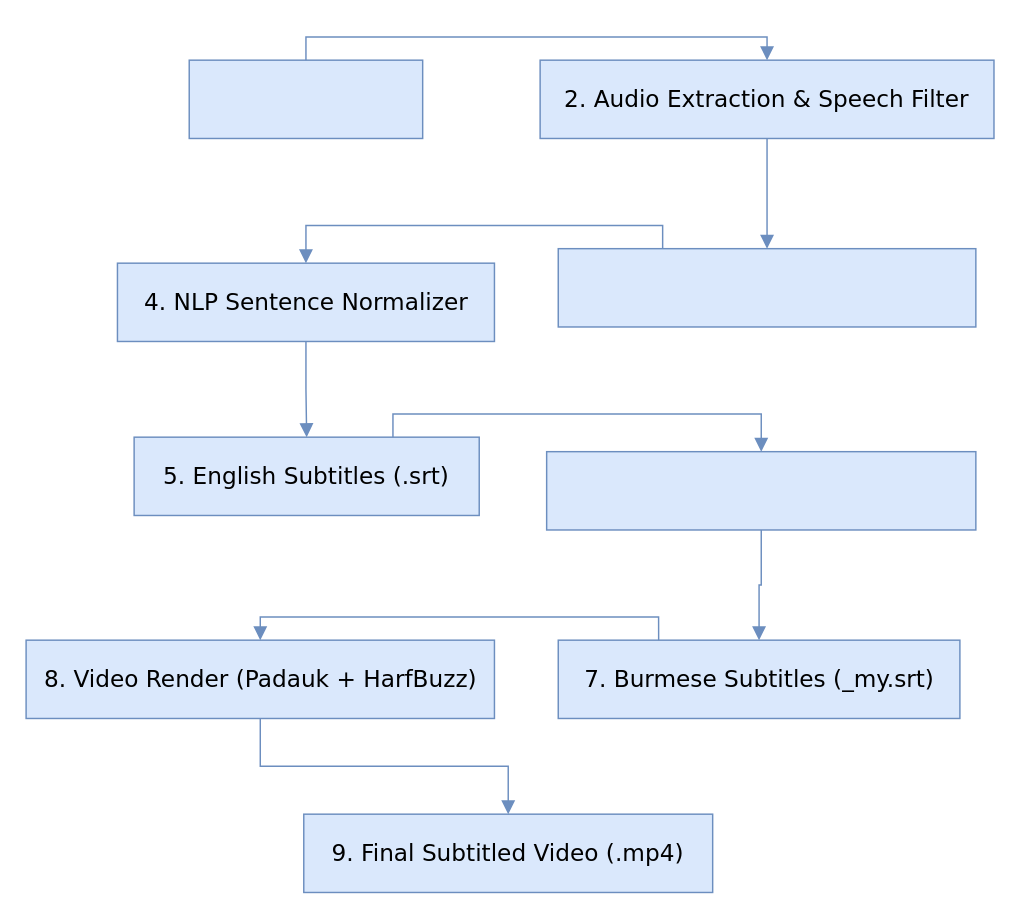
Image size: 1019x918. Some labels were removed from this diagram. Each missing label, with the box of its shape:
1. Input Video: (188, 59, 423, 138)
3. Local Whisper STT (small.en): (557, 247, 976, 327)
6. AI Translation (Gemini / Groq): (545, 450, 976, 530)
